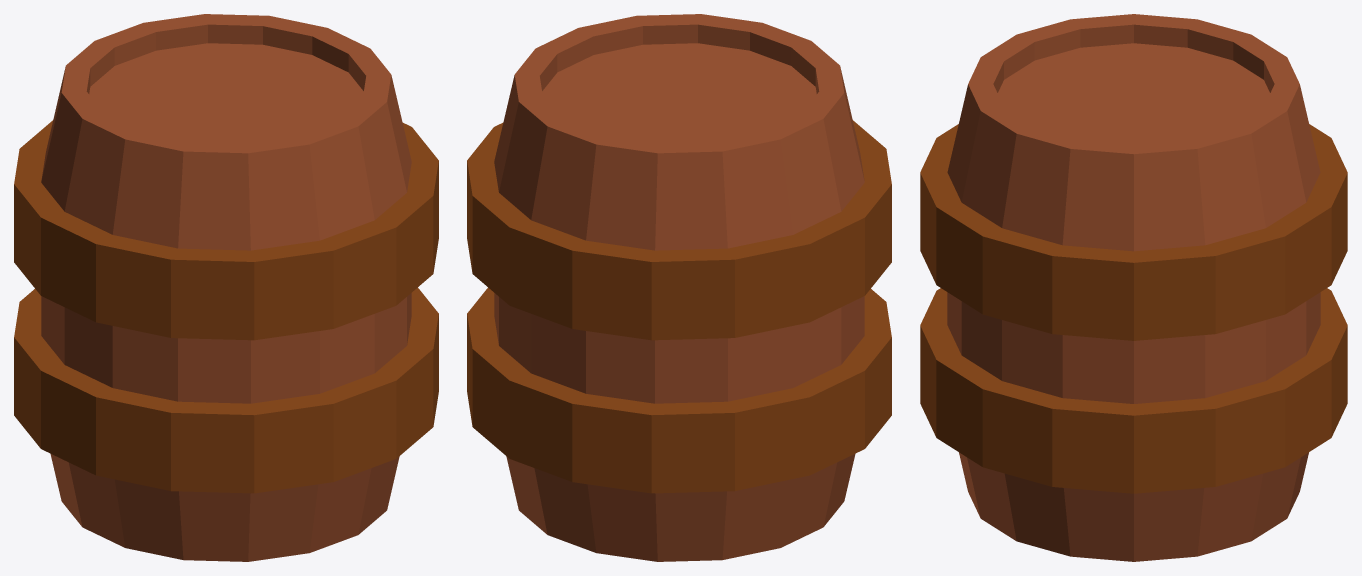
File: Baril.glb
3 renders of one model, left to right at view 1: azimuth 30°, elevation 25°; view 2: azimuth 150°, elevation 25°; view 3: azimuth 270°, elevation 25°, orthographic.
Parts seen in each view (by area): view 1: Baril; view 2: Baril; view 3: Baril.
Part boxes in pixels (box(x1,y1,x2,y2)): Baril: box(14, 14, 438, 561); Baril: box(467, 14, 891, 561); Baril: box(920, 14, 1347, 561).
Size of the model in its own units: 0.8377 by 0.8815 by 0.8377.
1 material, 1 textured.
